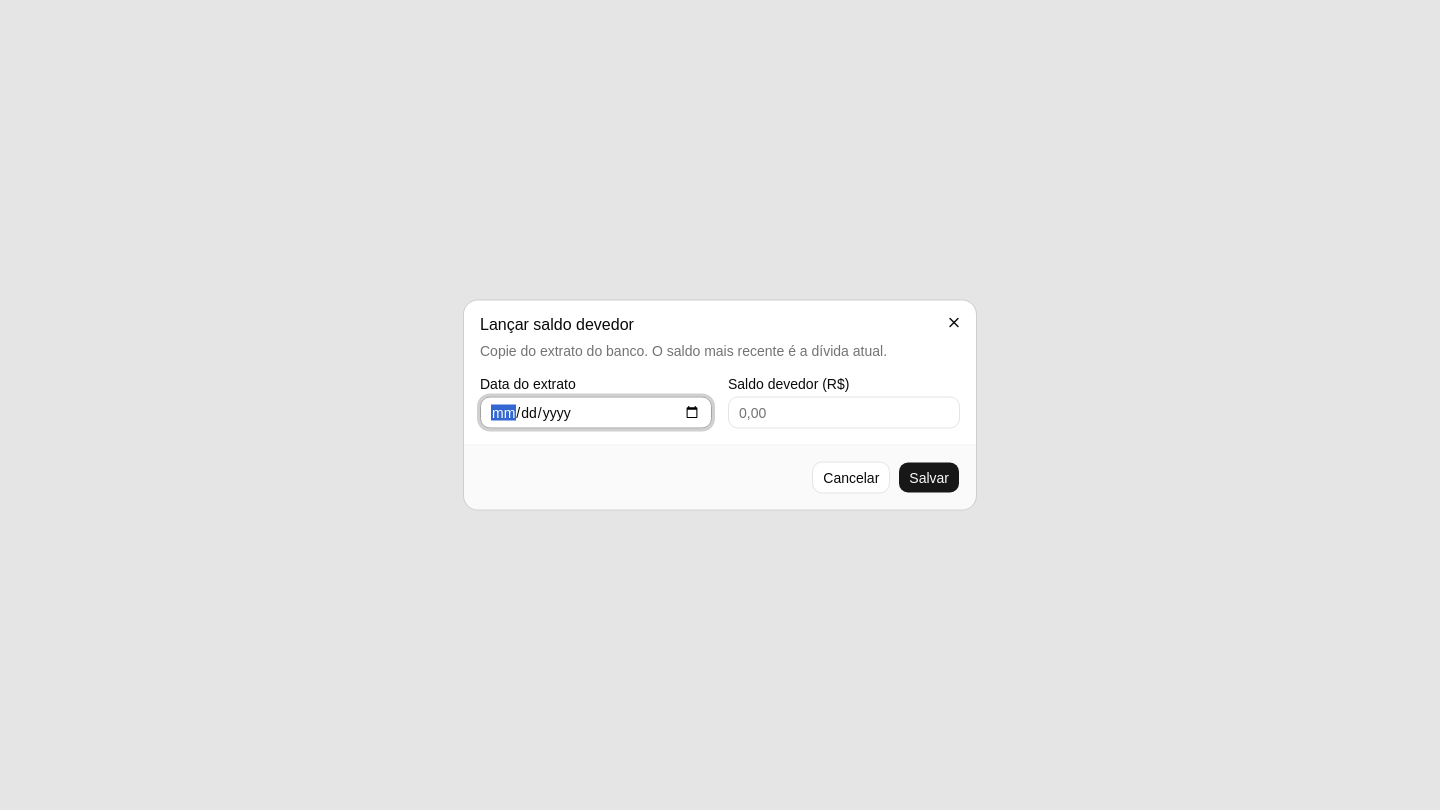
Test case: BalanceDialog › não envia valor inválido e explica o formato
In the date field labelled "Data do extrato": (596, 412) x1=480 y1=396 x2=712 y2=428, type "2026-08-31"
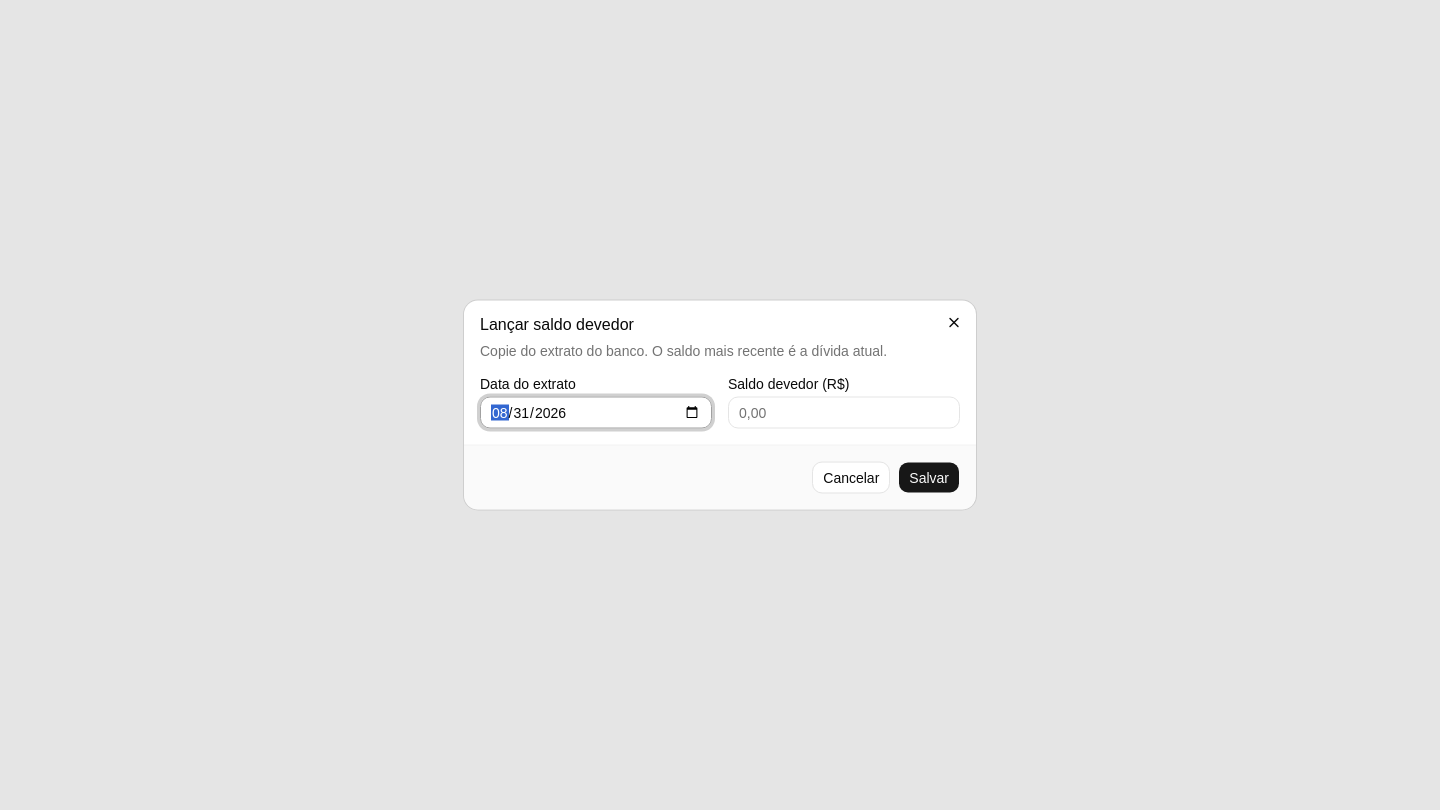
In the field labelled "Saldo devedor (R$)": (844, 412) x1=728 y1=396 x2=960 y2=428, type "1,234"
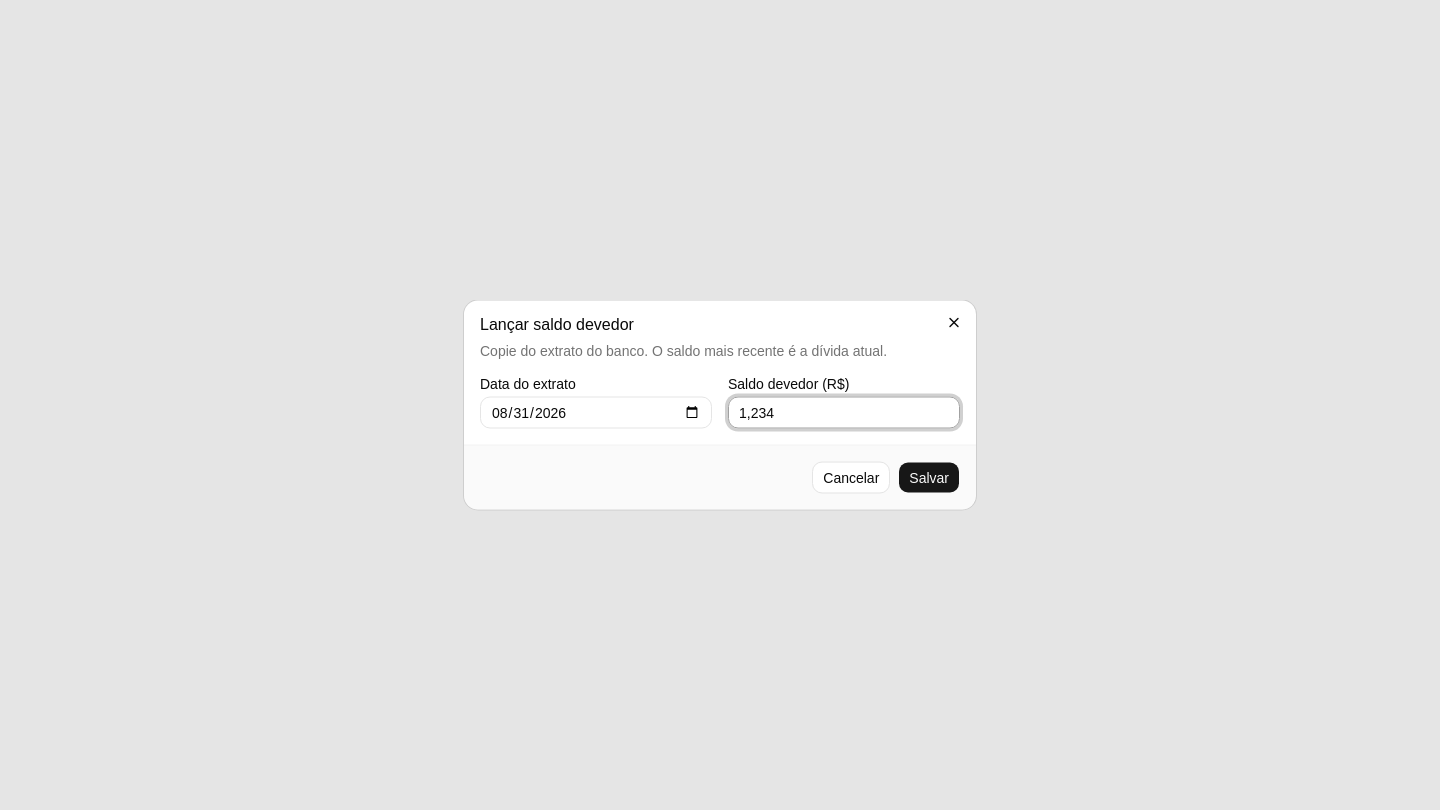
Click the button "Salvar": (929, 478) x1=898 y1=462 x2=960 y2=494
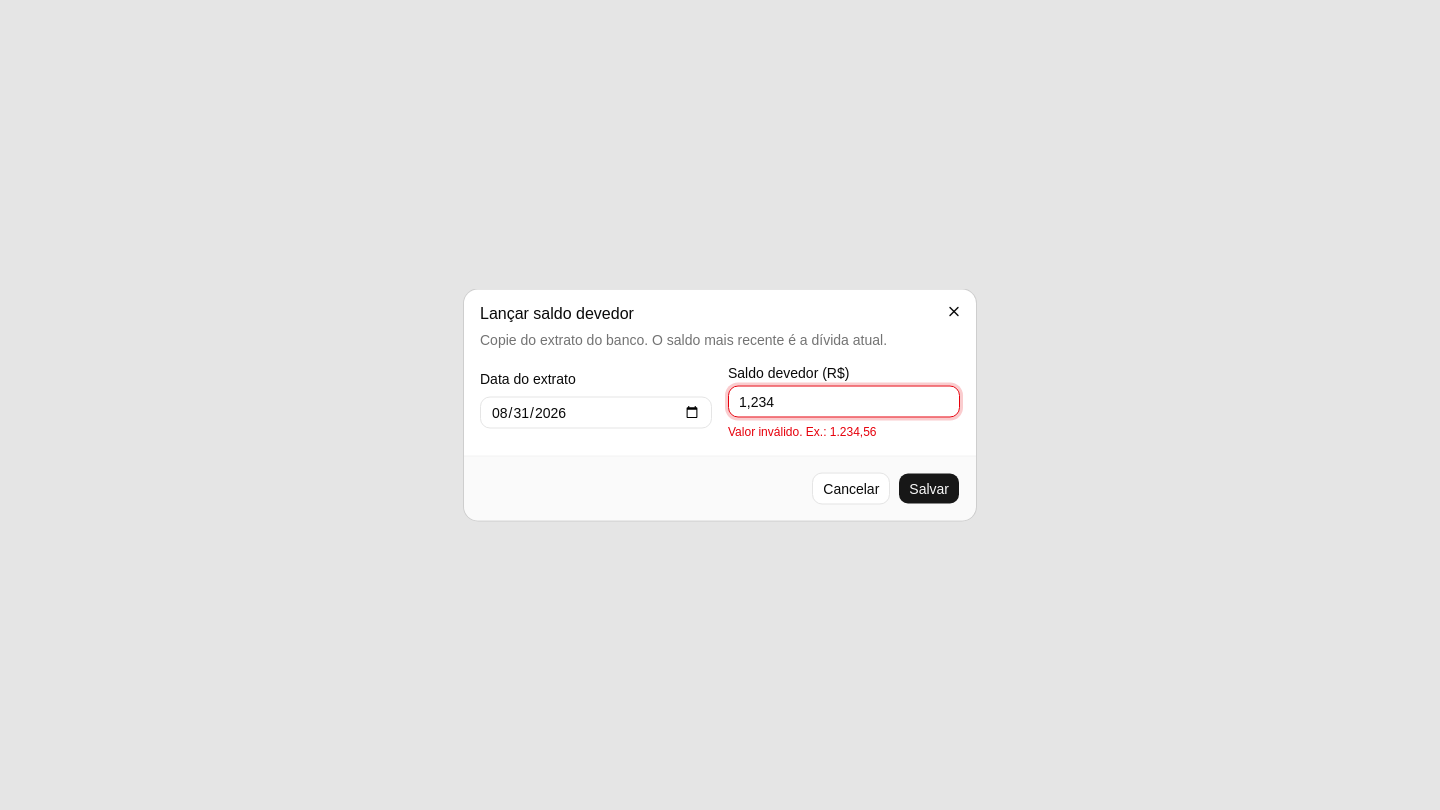
Now the text "Valor inválido. Ex.: 1.234,56" is shown, box x1=728 y1=424 x2=876 y2=438
